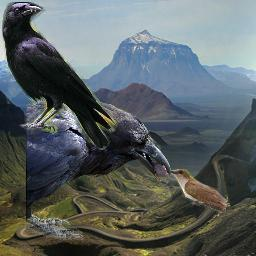Crow: (26, 96, 172, 240), (2, 2, 117, 150)
Cuckoo: (165, 169, 226, 214)
